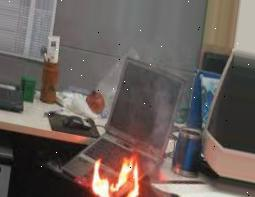fire: (87, 150, 144, 197)
smoke: (146, 72, 190, 180)
